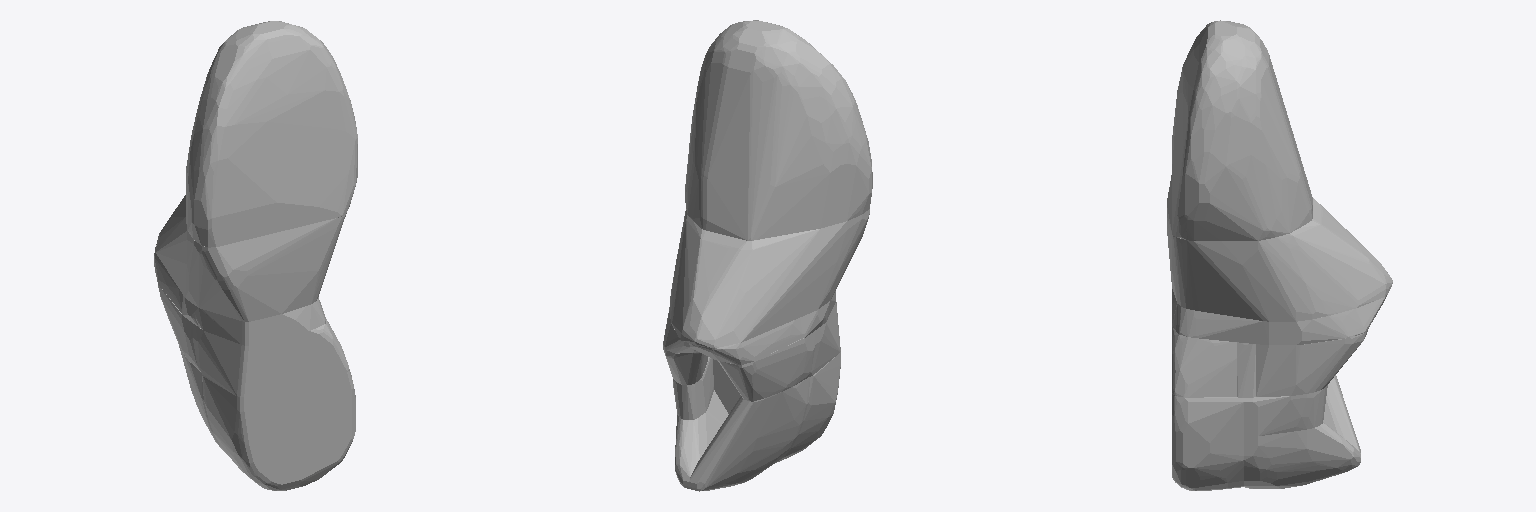
The robot description file, URDF, robot "root":
<robot name="root">
  <link name="link_coacd_convex_piece_0">
    <inertial>
      <origin xyz="0 0 0" rpy="0 0 0"/>
      <inertia ixx="3.07E-02" ixy="1.08E-03" ixz="-2.12E-04" iyy="5.72E-03" iyz="-9.93E-03" izz="3.08E-02"/>
    </inertial>
    <visual>
      <origin xyz="0 0 0" rpy="0 0 0"/>
      <geometry>
        <mesh filename="coacd_convex_piece_0.obj" scale="1.0000E+00 1.0000E+00 1.0000E+00"/>
      </geometry>
      <material name="">
        <color rgba="7.50E-01 7.50E-01 7.50E-01 1"/>
      </material>
    </visual>
    <collision>
      <origin xyz="0 0 0" rpy="0 0 0"/>
      <geometry>
        <mesh filename="coacd_convex_piece_0.obj" scale="1.0000E+00 1.0000E+00 1.0000E+00"/>
      </geometry>
    </collision>
  </link>
  <link name="link_coacd_convex_piece_1">
    <inertial>
      <origin xyz="0 0 0" rpy="0 0 0"/>
      <inertia ixx="2.56E-03" ixy="1.39E-05" ixz="-5.36E-04" iyy="3.64E-03" iyz="-5.38E-04" izz="2.63E-03"/>
    </inertial>
    <visual>
      <origin xyz="0 0 0" rpy="0 0 0"/>
      <geometry>
        <mesh filename="coacd_convex_piece_1.obj" scale="1.0000E+00 1.0000E+00 1.0000E+00"/>
      </geometry>
      <material name="">
        <color rgba="7.50E-01 7.50E-01 7.50E-01 1"/>
      </material>
    </visual>
    <collision>
      <origin xyz="0 0 0" rpy="0 0 0"/>
      <geometry>
        <mesh filename="coacd_convex_piece_1.obj" scale="1.0000E+00 1.0000E+00 1.0000E+00"/>
      </geometry>
    </collision>
  </link>
  <joint name="link_coacd_convex_piece_1_joint" type="fixed">
    <origin xyz="0 0 0" rpy="0 0 0"/>
    <parent link="link_coacd_convex_piece_0"/>
    <child link="link_coacd_convex_piece_1"/>
  </joint>
  <link name="link_coacd_convex_piece_2">
    <inertial>
      <origin xyz="0 0 0" rpy="0 0 0"/>
      <inertia ixx="2.09E-02" ixy="-1.75E-03" ixz="5.54E-04" iyy="3.10E-03" iyz="7.17E-03" izz="1.96E-02"/>
    </inertial>
    <visual>
      <origin xyz="0 0 0" rpy="0 0 0"/>
      <geometry>
        <mesh filename="coacd_convex_piece_2.obj" scale="1.0000E+00 1.0000E+00 1.0000E+00"/>
      </geometry>
      <material name="">
        <color rgba="7.50E-01 7.50E-01 7.50E-01 1"/>
      </material>
    </visual>
    <collision>
      <origin xyz="0 0 0" rpy="0 0 0"/>
      <geometry>
        <mesh filename="coacd_convex_piece_2.obj" scale="1.0000E+00 1.0000E+00 1.0000E+00"/>
      </geometry>
    </collision>
  </link>
  <joint name="link_coacd_convex_piece_2_joint" type="fixed">
    <origin xyz="0 0 0" rpy="0 0 0"/>
    <parent link="link_coacd_convex_piece_1"/>
    <child link="link_coacd_convex_piece_2"/>
  </joint>
  <link name="link_coacd_convex_piece_3">
    <inertial>
      <origin xyz="0 0 0" rpy="0 0 0"/>
      <inertia ixx="7.75E-03" ixy="4.15E-04" ixz="-6.50E-05" iyy="-8.68E-05" iyz="-3.90E-04" izz="8.02E-03"/>
    </inertial>
    <visual>
      <origin xyz="0 0 0" rpy="0 0 0"/>
      <geometry>
        <mesh filename="coacd_convex_piece_3.obj" scale="1.0000E+00 1.0000E+00 1.0000E+00"/>
      </geometry>
      <material name="">
        <color rgba="7.50E-01 7.50E-01 7.50E-01 1"/>
      </material>
    </visual>
    <collision>
      <origin xyz="0 0 0" rpy="0 0 0"/>
      <geometry>
        <mesh filename="coacd_convex_piece_3.obj" scale="1.0000E+00 1.0000E+00 1.0000E+00"/>
      </geometry>
    </collision>
  </link>
  <joint name="link_coacd_convex_piece_3_joint" type="fixed">
    <origin xyz="0 0 0" rpy="0 0 0"/>
    <parent link="link_coacd_convex_piece_2"/>
    <child link="link_coacd_convex_piece_3"/>
  </joint>
  <link name="link_coacd_convex_piece_4">
    <inertial>
      <origin xyz="0 0 0" rpy="0 0 0"/>
      <inertia ixx="5.53E-04" ixy="7.21E-05" ixz="-1.06E-04" iyy="3.84E-04" iyz="3.01E-04" izz="2.99E-04"/>
    </inertial>
    <visual>
      <origin xyz="0 0 0" rpy="0 0 0"/>
      <geometry>
        <mesh filename="coacd_convex_piece_4.obj" scale="1.0000E+00 1.0000E+00 1.0000E+00"/>
      </geometry>
      <material name="">
        <color rgba="7.50E-01 7.50E-01 7.50E-01 1"/>
      </material>
    </visual>
    <collision>
      <origin xyz="0 0 0" rpy="0 0 0"/>
      <geometry>
        <mesh filename="coacd_convex_piece_4.obj" scale="1.0000E+00 1.0000E+00 1.0000E+00"/>
      </geometry>
    </collision>
  </link>
  <joint name="link_coacd_convex_piece_4_joint" type="fixed">
    <origin xyz="0 0 0" rpy="0 0 0"/>
    <parent link="link_coacd_convex_piece_3"/>
    <child link="link_coacd_convex_piece_4"/>
  </joint>
  <link name="link_coacd_convex_piece_5">
    <inertial>
      <origin xyz="0 0 0" rpy="0 0 0"/>
      <inertia ixx="8.28E-04" ixy="-4.65E-04" ixz="-1.26E-04" iyy="2.35E-04" iyz="-2.29E-04" izz="1.13E-03"/>
    </inertial>
    <visual>
      <origin xyz="0 0 0" rpy="0 0 0"/>
      <geometry>
        <mesh filename="coacd_convex_piece_5.obj" scale="1.0000E+00 1.0000E+00 1.0000E+00"/>
      </geometry>
      <material name="">
        <color rgba="7.50E-01 7.50E-01 7.50E-01 1"/>
      </material>
    </visual>
    <collision>
      <origin xyz="0 0 0" rpy="0 0 0"/>
      <geometry>
        <mesh filename="coacd_convex_piece_5.obj" scale="1.0000E+00 1.0000E+00 1.0000E+00"/>
      </geometry>
    </collision>
  </link>
  <joint name="link_coacd_convex_piece_5_joint" type="fixed">
    <origin xyz="0 0 0" rpy="0 0 0"/>
    <parent link="link_coacd_convex_piece_4"/>
    <child link="link_coacd_convex_piece_5"/>
  </joint>
  <link name="link_coacd_convex_piece_6">
    <inertial>
      <origin xyz="0 0 0" rpy="0 0 0"/>
      <inertia ixx="9.08E-04" ixy="3.62E-04" ixz="2.32E-05" iyy="8.62E-05" iyz="-1.78E-04" izz="1.12E-03"/>
    </inertial>
    <visual>
      <origin xyz="0 0 0" rpy="0 0 0"/>
      <geometry>
        <mesh filename="coacd_convex_piece_6.obj" scale="1.0000E+00 1.0000E+00 1.0000E+00"/>
      </geometry>
      <material name="">
        <color rgba="7.50E-01 7.50E-01 7.50E-01 1"/>
      </material>
    </visual>
    <collision>
      <origin xyz="0 0 0" rpy="0 0 0"/>
      <geometry>
        <mesh filename="coacd_convex_piece_6.obj" scale="1.0000E+00 1.0000E+00 1.0000E+00"/>
      </geometry>
    </collision>
  </link>
  <joint name="link_coacd_convex_piece_6_joint" type="fixed">
    <origin xyz="0 0 0" rpy="0 0 0"/>
    <parent link="link_coacd_convex_piece_5"/>
    <child link="link_coacd_convex_piece_6"/>
  </joint>
  <link name="link_coacd_convex_piece_7">
    <inertial>
      <origin xyz="0 0 0" rpy="0 0 0"/>
      <inertia ixx="1.79E-03" ixy="3.69E-04" ixz="-2.86E-04" iyy="6.42E-04" iyz="8.95E-04" izz="1.44E-03"/>
    </inertial>
    <visual>
      <origin xyz="0 0 0" rpy="0 0 0"/>
      <geometry>
        <mesh filename="coacd_convex_piece_7.obj" scale="1.0000E+00 1.0000E+00 1.0000E+00"/>
      </geometry>
      <material name="">
        <color rgba="7.50E-01 7.50E-01 7.50E-01 1"/>
      </material>
    </visual>
    <collision>
      <origin xyz="0 0 0" rpy="0 0 0"/>
      <geometry>
        <mesh filename="coacd_convex_piece_7.obj" scale="1.0000E+00 1.0000E+00 1.0000E+00"/>
      </geometry>
    </collision>
  </link>
  <joint name="link_coacd_convex_piece_7_joint" type="fixed">
    <origin xyz="0 0 0" rpy="0 0 0"/>
    <parent link="link_coacd_convex_piece_6"/>
    <child link="link_coacd_convex_piece_7"/>
  </joint>
  <link name="link_coacd_convex_piece_8">
    <inertial>
      <origin xyz="0 0 0" rpy="0 0 0"/>
      <inertia ixx="5.95E-03" ixy="-1.26E-03" ixz="-6.65E-05" iyy="1.85E-04" iyz="-2.76E-04" izz="6.36E-03"/>
    </inertial>
    <visual>
      <origin xyz="0 0 0" rpy="0 0 0"/>
      <geometry>
        <mesh filename="coacd_convex_piece_8.obj" scale="1.0000E+00 1.0000E+00 1.0000E+00"/>
      </geometry>
      <material name="">
        <color rgba="7.50E-01 7.50E-01 7.50E-01 1"/>
      </material>
    </visual>
    <collision>
      <origin xyz="0 0 0" rpy="0 0 0"/>
      <geometry>
        <mesh filename="coacd_convex_piece_8.obj" scale="1.0000E+00 1.0000E+00 1.0000E+00"/>
      </geometry>
    </collision>
  </link>
  <joint name="link_coacd_convex_piece_8_joint" type="fixed">
    <origin xyz="0 0 0" rpy="0 0 0"/>
    <parent link="link_coacd_convex_piece_7"/>
    <child link="link_coacd_convex_piece_8"/>
  </joint>
  <link name="link_coacd_convex_piece_9">
    <inertial>
      <origin xyz="0 0 0" rpy="0 0 0"/>
      <inertia ixx="1.04E-03" ixy="-4.42E-04" ixz="-1.72E-05" iyy="1.23E-04" iyz="-3.61E-05" izz="1.28E-03"/>
    </inertial>
    <visual>
      <origin xyz="0 0 0" rpy="0 0 0"/>
      <geometry>
        <mesh filename="coacd_convex_piece_9.obj" scale="1.0000E+00 1.0000E+00 1.0000E+00"/>
      </geometry>
      <material name="">
        <color rgba="7.50E-01 7.50E-01 7.50E-01 1"/>
      </material>
    </visual>
    <collision>
      <origin xyz="0 0 0" rpy="0 0 0"/>
      <geometry>
        <mesh filename="coacd_convex_piece_9.obj" scale="1.0000E+00 1.0000E+00 1.0000E+00"/>
      </geometry>
    </collision>
  </link>
  <joint name="link_coacd_convex_piece_9_joint" type="fixed">
    <origin xyz="0 0 0" rpy="0 0 0"/>
    <parent link="link_coacd_convex_piece_8"/>
    <child link="link_coacd_convex_piece_9"/>
  </joint>
  <link name="link_coacd_convex_piece_10">
    <inertial>
      <origin xyz="0 0 0" rpy="0 0 0"/>
      <inertia ixx="1.29E-04" ixy="-8.44E-05" ixz="2.58E-05" iyy="4.65E-05" iyz="4.43E-05" izz="1.90E-04"/>
    </inertial>
    <visual>
      <origin xyz="0 0 0" rpy="0 0 0"/>
      <geometry>
        <mesh filename="coacd_convex_piece_10.obj" scale="1.0000E+00 1.0000E+00 1.0000E+00"/>
      </geometry>
      <material name="">
        <color rgba="7.50E-01 7.50E-01 7.50E-01 1"/>
      </material>
    </visual>
    <collision>
      <origin xyz="0 0 0" rpy="0 0 0"/>
      <geometry>
        <mesh filename="coacd_convex_piece_10.obj" scale="1.0000E+00 1.0000E+00 1.0000E+00"/>
      </geometry>
    </collision>
  </link>
  <joint name="link_coacd_convex_piece_10_joint" type="fixed">
    <origin xyz="0 0 0" rpy="0 0 0"/>
    <parent link="link_coacd_convex_piece_9"/>
    <child link="link_coacd_convex_piece_10"/>
  </joint>
  <link name="link_coacd_convex_piece_11">
    <inertial>
      <origin xyz="0 0 0" rpy="0 0 0"/>
      <inertia ixx="1.82E-03" ixy="-4.70E-04" ixz="3.21E-04" iyy="7.63E-04" iyz="9.27E-04" izz="1.50E-03"/>
    </inertial>
    <visual>
      <origin xyz="0 0 0" rpy="0 0 0"/>
      <geometry>
        <mesh filename="coacd_convex_piece_11.obj" scale="1.0000E+00 1.0000E+00 1.0000E+00"/>
      </geometry>
      <material name="">
        <color rgba="7.50E-01 7.50E-01 7.50E-01 1"/>
      </material>
    </visual>
    <collision>
      <origin xyz="0 0 0" rpy="0 0 0"/>
      <geometry>
        <mesh filename="coacd_convex_piece_11.obj" scale="1.0000E+00 1.0000E+00 1.0000E+00"/>
      </geometry>
    </collision>
  </link>
  <joint name="link_coacd_convex_piece_11_joint" type="fixed">
    <origin xyz="0 0 0" rpy="0 0 0"/>
    <parent link="link_coacd_convex_piece_10"/>
    <child link="link_coacd_convex_piece_11"/>
  </joint>
  <link name="link_coacd_convex_piece_12">
    <inertial>
      <origin xyz="0 0 0" rpy="0 0 0"/>
      <inertia ixx="2.70E-04" ixy="-1.43E-04" ixz="-1.08E-04" iyy="1.88E-04" iyz="-1.67E-04" izz="3.24E-04"/>
    </inertial>
    <visual>
      <origin xyz="0 0 0" rpy="0 0 0"/>
      <geometry>
        <mesh filename="coacd_convex_piece_12.obj" scale="1.0000E+00 1.0000E+00 1.0000E+00"/>
      </geometry>
      <material name="">
        <color rgba="7.50E-01 7.50E-01 7.50E-01 1"/>
      </material>
    </visual>
    <collision>
      <origin xyz="0 0 0" rpy="0 0 0"/>
      <geometry>
        <mesh filename="coacd_convex_piece_12.obj" scale="1.0000E+00 1.0000E+00 1.0000E+00"/>
      </geometry>
    </collision>
  </link>
  <joint name="link_coacd_convex_piece_12_joint" type="fixed">
    <origin xyz="0 0 0" rpy="0 0 0"/>
    <parent link="link_coacd_convex_piece_11"/>
    <child link="link_coacd_convex_piece_12"/>
  </joint>
  <link name="link_coacd_convex_piece_13">
    <inertial>
      <origin xyz="0 0 0" rpy="0 0 0"/>
      <inertia ixx="2.93E-04" ixy="1.05E-04" ixz="5.32E-05" iyy="1.47E-04" iyz="-1.77E-04" izz="2.76E-04"/>
    </inertial>
    <visual>
      <origin xyz="0 0 0" rpy="0 0 0"/>
      <geometry>
        <mesh filename="coacd_convex_piece_13.obj" scale="1.0000E+00 1.0000E+00 1.0000E+00"/>
      </geometry>
      <material name="">
        <color rgba="7.50E-01 7.50E-01 7.50E-01 1"/>
      </material>
    </visual>
    <collision>
      <origin xyz="0 0 0" rpy="0 0 0"/>
      <geometry>
        <mesh filename="coacd_convex_piece_13.obj" scale="1.0000E+00 1.0000E+00 1.0000E+00"/>
      </geometry>
    </collision>
  </link>
  <joint name="link_coacd_convex_piece_13_joint" type="fixed">
    <origin xyz="0 0 0" rpy="0 0 0"/>
    <parent link="link_coacd_convex_piece_12"/>
    <child link="link_coacd_convex_piece_13"/>
  </joint>
  <link name="link_coacd_convex_piece_14">
    <inertial>
      <origin xyz="0 0 0" rpy="0 0 0"/>
      <inertia ixx="2.07E-04" ixy="-1.10E-04" ixz="8.71E-05" iyy="1.72E-04" iyz="1.18E-04" izz="2.30E-04"/>
    </inertial>
    <visual>
      <origin xyz="0 0 0" rpy="0 0 0"/>
      <geometry>
        <mesh filename="coacd_convex_piece_14.obj" scale="1.0000E+00 1.0000E+00 1.0000E+00"/>
      </geometry>
      <material name="">
        <color rgba="7.50E-01 7.50E-01 7.50E-01 1"/>
      </material>
    </visual>
    <collision>
      <origin xyz="0 0 0" rpy="0 0 0"/>
      <geometry>
        <mesh filename="coacd_convex_piece_14.obj" scale="1.0000E+00 1.0000E+00 1.0000E+00"/>
      </geometry>
    </collision>
  </link>
  <joint name="link_coacd_convex_piece_14_joint" type="fixed">
    <origin xyz="0 0 0" rpy="0 0 0"/>
    <parent link="link_coacd_convex_piece_13"/>
    <child link="link_coacd_convex_piece_14"/>
  </joint>
  <link name="link_coacd_convex_piece_15">
    <inertial>
      <origin xyz="0 0 0" rpy="0 0 0"/>
      <inertia ixx="5.08E-05" ixy="5.69E-05" ixz="-3.26E-05" iyy="3.22E-05" iyz="3.02E-05" izz="1.18E-04"/>
    </inertial>
    <visual>
      <origin xyz="0 0 0" rpy="0 0 0"/>
      <geometry>
        <mesh filename="coacd_convex_piece_15.obj" scale="1.0000E+00 1.0000E+00 1.0000E+00"/>
      </geometry>
      <material name="">
        <color rgba="7.50E-01 7.50E-01 7.50E-01 1"/>
      </material>
    </visual>
    <collision>
      <origin xyz="0 0 0" rpy="0 0 0"/>
      <geometry>
        <mesh filename="coacd_convex_piece_15.obj" scale="1.0000E+00 1.0000E+00 1.0000E+00"/>
      </geometry>
    </collision>
  </link>
  <joint name="link_coacd_convex_piece_15_joint" type="fixed">
    <origin xyz="0 0 0" rpy="0 0 0"/>
    <parent link="link_coacd_convex_piece_14"/>
    <child link="link_coacd_convex_piece_15"/>
  </joint>
</robot>

--- Facts derived from the render (not from the file) ---
Views: 3 orthographic renders of the robot side by side, from view 1: azimuth 30°, elevation 25°; view 2: azimuth 150°, elevation 25°; view 3: azimuth 270°, elevation 25°.
Model root with 16 links and 15 joints (15 fixed), rooted at link_coacd_convex_piece_0, posed all joints at 0.
Links seen in each view (by area): view 1: link_coacd_convex_piece_0, link_coacd_convex_piece_1, link_coacd_convex_piece_2, link_coacd_convex_piece_7, link_coacd_convex_piece_11, link_coacd_convex_piece_4, link_coacd_convex_piece_6, link_coacd_convex_piece_3, link_coacd_convex_piece_13; view 2: link_coacd_convex_piece_0, link_coacd_convex_piece_1, link_coacd_convex_piece_3, link_coacd_convex_piece_6, link_coacd_convex_piece_2, link_coacd_convex_piece_8, link_coacd_convex_piece_13, link_coacd_convex_piece_9, link_coacd_convex_piece_7, link_coacd_convex_piece_5, link_coacd_convex_piece_12; view 3: link_coacd_convex_piece_0, link_coacd_convex_piece_1, link_coacd_convex_piece_2, link_coacd_convex_piece_8, link_coacd_convex_piece_5, link_coacd_convex_piece_11, link_coacd_convex_piece_9, link_coacd_convex_piece_12, link_coacd_convex_piece_14, link_coacd_convex_piece_3, link_coacd_convex_piece_10.
Boxes of the visible links, <box> form: link_coacd_convex_piece_0: <box>186,21,357,247</box>; link_coacd_convex_piece_1: <box>155,195,345,321</box>; link_coacd_convex_piece_2: <box>202,369,355,490</box>; link_coacd_convex_piece_7: <box>192,323,288,397</box>; link_coacd_convex_piece_11: <box>289,319,349,385</box>; link_coacd_convex_piece_4: <box>194,305,309,345</box>; link_coacd_convex_piece_6: <box>157,281,199,370</box>; link_coacd_convex_piece_3: <box>179,346,226,453</box>; link_coacd_convex_piece_13: <box>154,244,182,312</box>; link_coacd_convex_piece_0: <box>685,20,872,240</box>; link_coacd_convex_piece_1: <box>669,209,869,347</box>; link_coacd_convex_piece_3: <box>689,377,809,491</box>; link_coacd_convex_piece_6: <box>718,330,815,401</box>; link_coacd_convex_piece_2: <box>713,352,840,462</box>; link_coacd_convex_piece_8: <box>675,390,728,488</box>; link_coacd_convex_piece_13: <box>689,318,801,364</box>; link_coacd_convex_piece_9: <box>673,357,713,419</box>; link_coacd_convex_piece_7: <box>809,302,840,376</box>; link_coacd_convex_piece_5: <box>663,342,707,384</box>; link_coacd_convex_piece_12: <box>663,311,697,353</box>; link_coacd_convex_piece_0: <box>1172,20,1312,240</box>; link_coacd_convex_piece_1: <box>1167,175,1392,321</box>; link_coacd_convex_piece_2: <box>1172,394,1243,490</box>; link_coacd_convex_piece_8: <box>1244,422,1360,488</box>; link_coacd_convex_piece_5: <box>1256,328,1368,396</box>; link_coacd_convex_piece_11: <box>1172,326,1236,397</box>; link_coacd_convex_piece_9: <box>1244,385,1327,435</box>; link_coacd_convex_piece_12: <box>1272,296,1386,344</box>; link_coacd_convex_piece_14: <box>1172,304,1271,344</box>; link_coacd_convex_piece_3: <box>1323,375,1360,453</box>; link_coacd_convex_piece_10: <box>1237,342,1255,397</box>.
Size in the robot's own frame: 0.721 by 0.8411 by 1.84 metres.
16 mesh visuals loaded from 16 distinct referenced files (16 OBJ).
